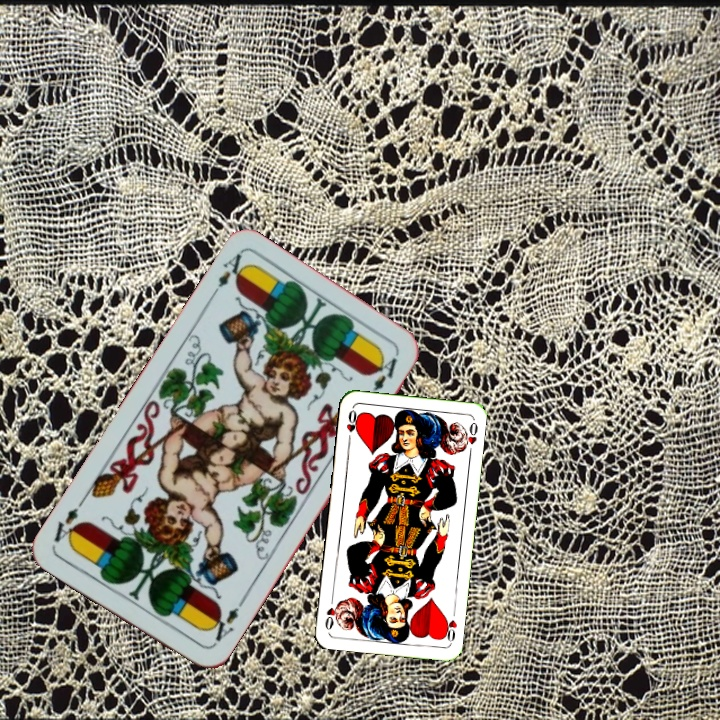EA: (205, 249, 251, 302), (204, 596, 247, 644)
HO: (439, 605, 460, 645), (342, 406, 361, 445)
